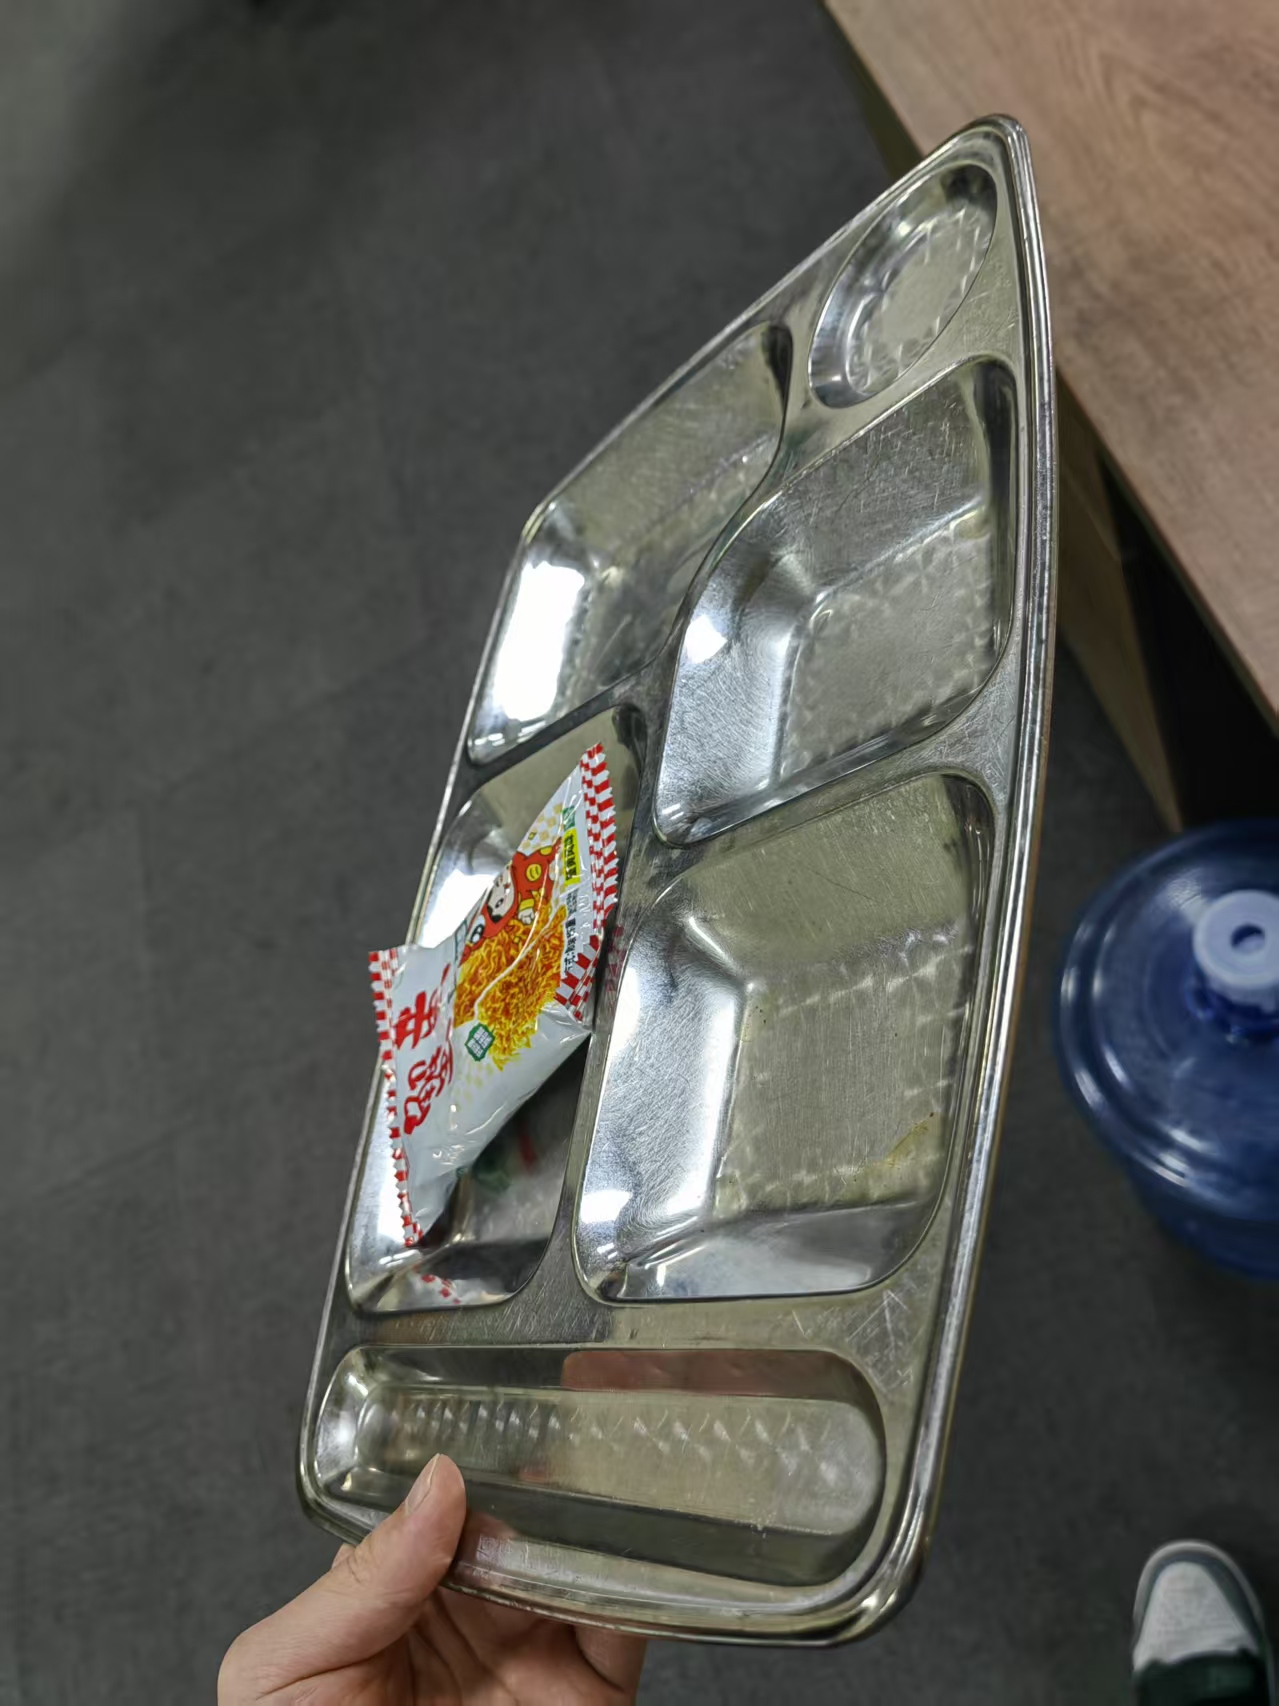mild: (372, 739, 621, 1247)
plate: (293, 108, 1062, 1652)
